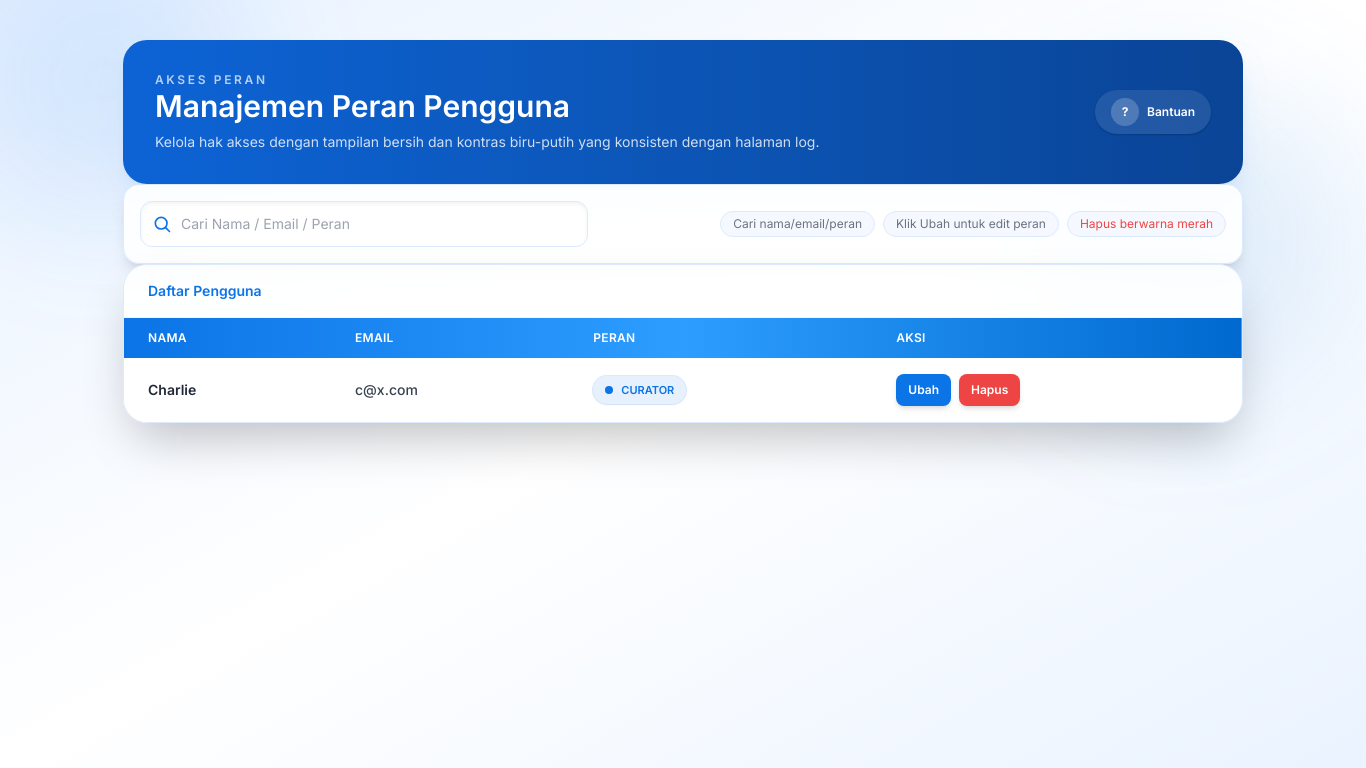
Admin role management - coverage targets › opens RoleModal when clicking Ubah and closes on Batal
Check: the text "Charlie" is shown, box 148,381 -> 196,398
// click Ubah
Step 1. Click the button "Ubah" → (924, 390), box 896,374 -> 951,406
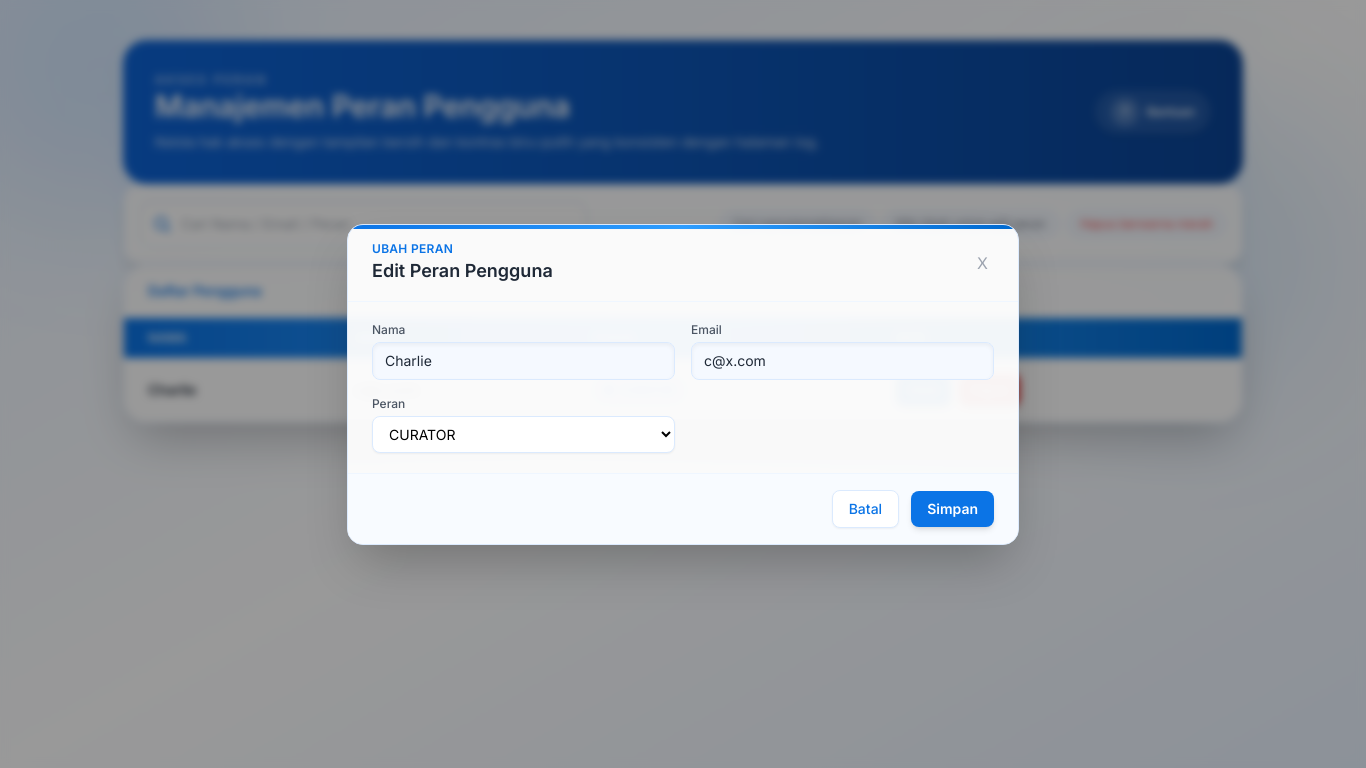
Check: the heading "Edit Peran Pengguna" is shown, box 372,256 -> 553,284
// click Batal to close
Step 2. Click the button "Batal" → (865, 508), box 832,490 -> 899,528
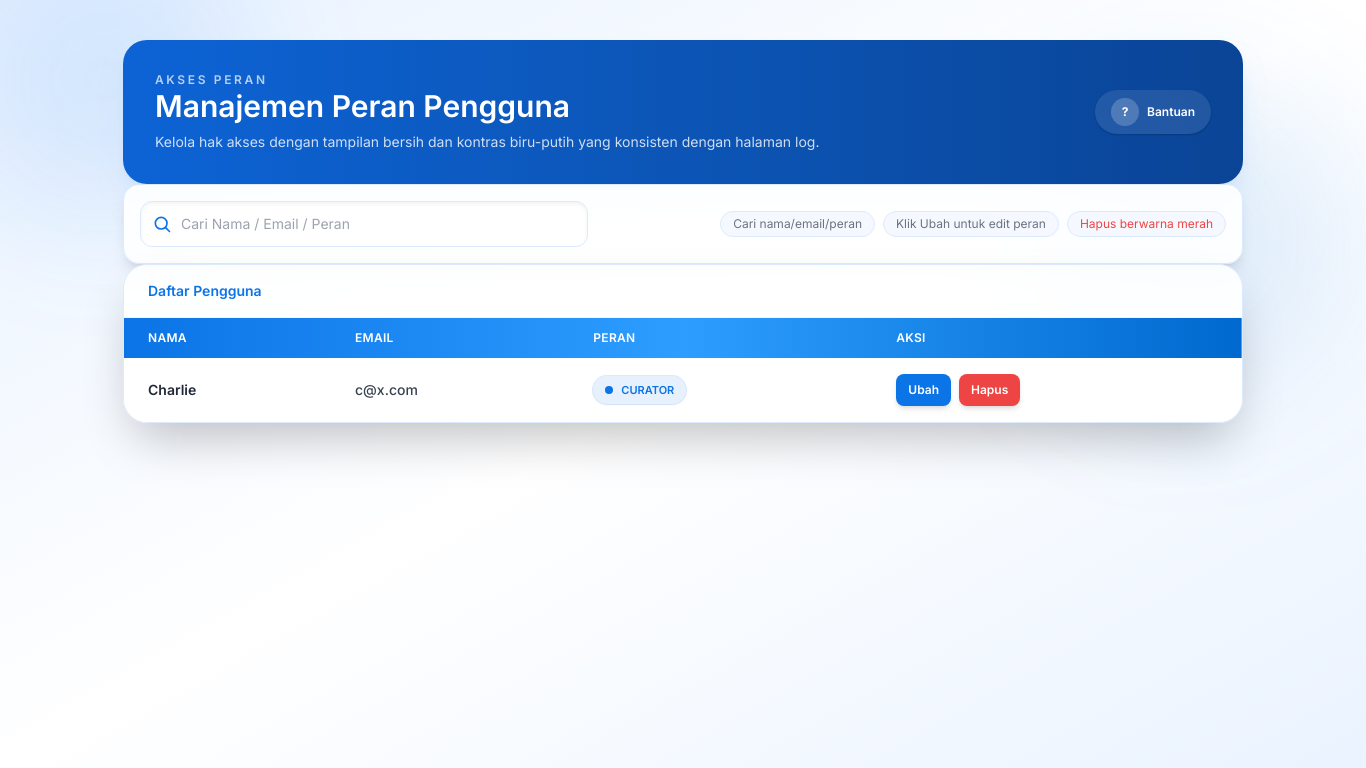
Check: the heading "Edit Peran Pengguna" is gone
